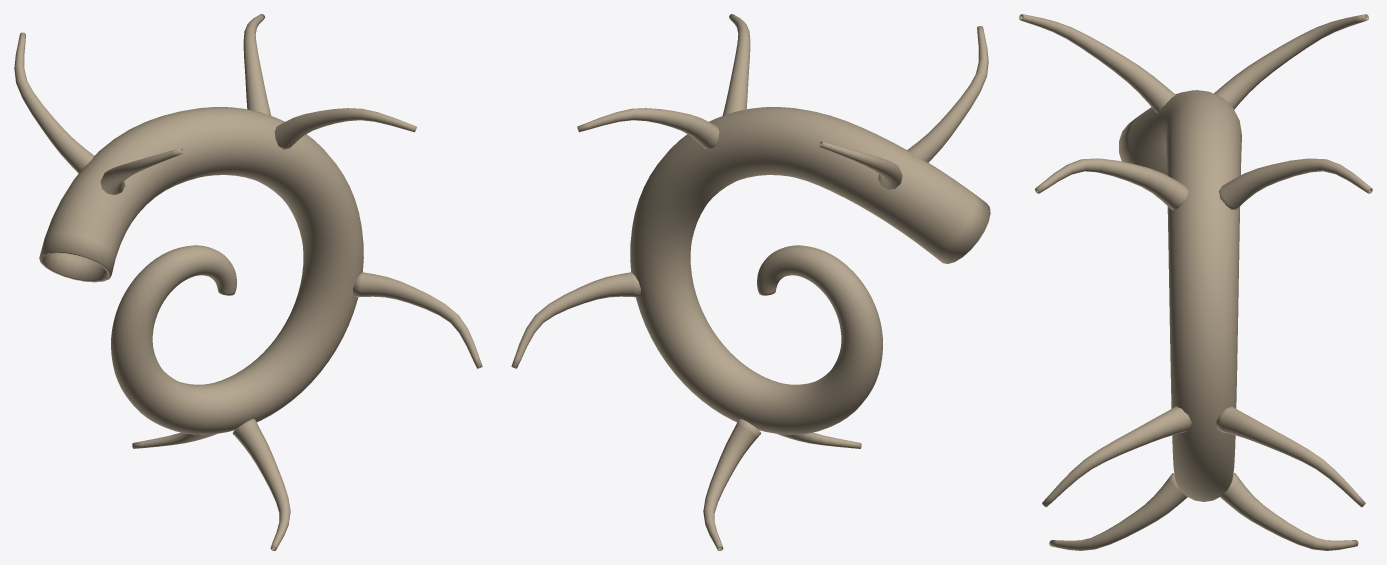
File: cooperoceras.glb
3 views of the same model, side by side, from view 1: azimuth 30°, elevation 25°; view 2: azimuth 150°, elevation 25°; view 3: azimuth 270°, elevation 25° (orthographic). The views are drawn at different scales.
Parts seen in each view (by area): view 1: original-expanding-open-coil-and-real-shell-aperture, paired-recurved-hollow-shell-spines; view 2: original-expanding-open-coil-and-real-shell-aperture, paired-recurved-hollow-shell-spines; view 3: original-expanding-open-coil-and-real-shell-aperture, paired-recurved-hollow-shell-spines.
Part boxes in pixels (bbox=[...]): original-expanding-open-coil-and-real-shell-aperture: bbox=[39, 107, 363, 434]; paired-recurved-hollow-shell-spines: bbox=[14, 14, 482, 550]; original-expanding-open-coil-and-real-shell-aperture: bbox=[630, 107, 990, 434]; paired-recurved-hollow-shell-spines: bbox=[511, 14, 988, 550]; original-expanding-open-coil-and-real-shell-aperture: bbox=[1119, 90, 1241, 501]; paired-recurved-hollow-shell-spines: bbox=[1019, 14, 1372, 550].
Size of the model in its own units: 0.1555 by 0.17 by 0.1145.
